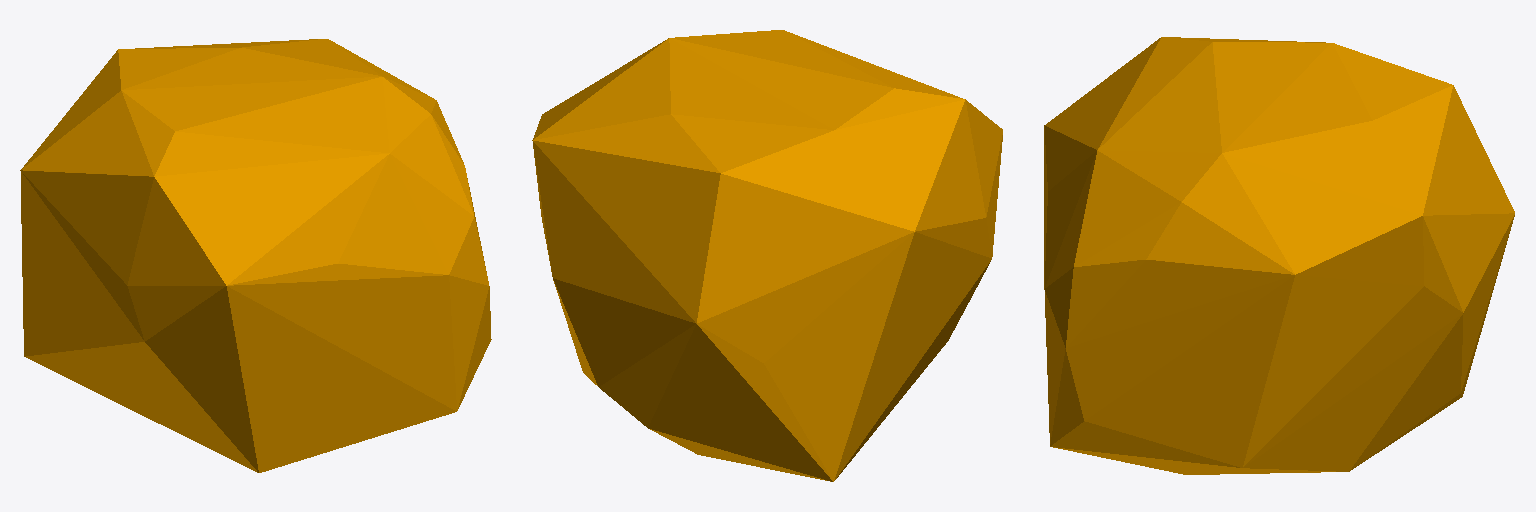
The robot description file, URDF, robot "060_012_4571":
<?xml version="1.0"?>
<robot name="060_012_4571">
  <link name="link">
    <contact>
      <lateral_friction value="0.6"/>
    </contact>
    <inertial>
      <mass value = "0.6723062455871412"/>
      <inertia ixx="0.0004181995549026846" ixy="-1.5361804329014922e-05" ixz="-4.12590965804433e-06" iyy="0.00041478545795773096" iyz="7.264654735536956e-06" izz="0.0004840599674301724" />
    </inertial>
    <visual name="visual">
      <geometry>
        <mesh filename="060_012_4571.obj"/>
      </geometry>
    </visual>
    <collision name="collision">
      <geometry>
        <mesh filename="060_012_4571.obj"/>
      </geometry>
    </collision>
  </link>
</robot>

--- Render facts (derived) ---
Views: 3 orthographic renders of the robot side by side, from view 1: azimuth 30°, elevation 25°; view 2: azimuth 150°, elevation 25°; view 3: azimuth 270°, elevation 25°.
Model 060_012_4571 with 1 links and 0 joints (none), rooted at link, posed every joint at zero.
Links seen in each view (by area): view 1: link; view 2: link; view 3: link.
Link boxes in pixels (x1,y1,x2,y2): link: (20, 39, 491, 472); link: (532, 30, 1002, 481); link: (1044, 37, 1514, 474).
Size in the robot's own frame: 0.0827 by 0.0809 by 0.0653 metres.
Meshes: 1 distinct files referenced, 1 mesh visuals loaded (1 OBJ).
